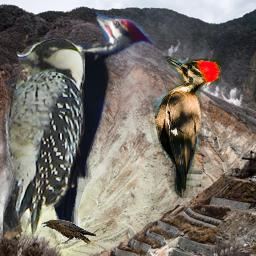Crow: (40, 218, 98, 246)
Woodpecker: (2, 10, 156, 239), (3, 37, 85, 239), (148, 56, 221, 198)
